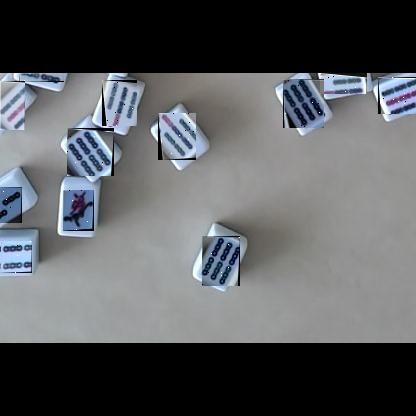1s: (63, 190, 94, 231)
3s: (0, 187, 22, 223)
4s: (0, 241, 32, 273)
5s: (19, 73, 64, 82)
6s: (67, 128, 114, 176), (283, 79, 324, 128), (202, 236, 240, 286)
7s: (158, 113, 196, 160), (102, 80, 137, 126), (320, 73, 367, 94)
9s: (378, 77, 416, 114), (0, 81, 25, 130)
